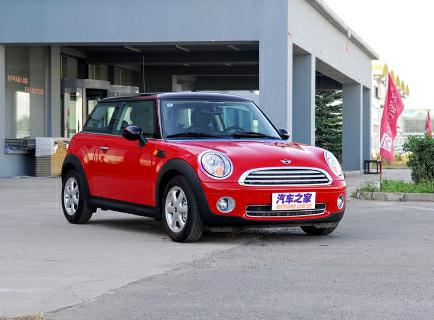MINI: (45, 90, 352, 241)
